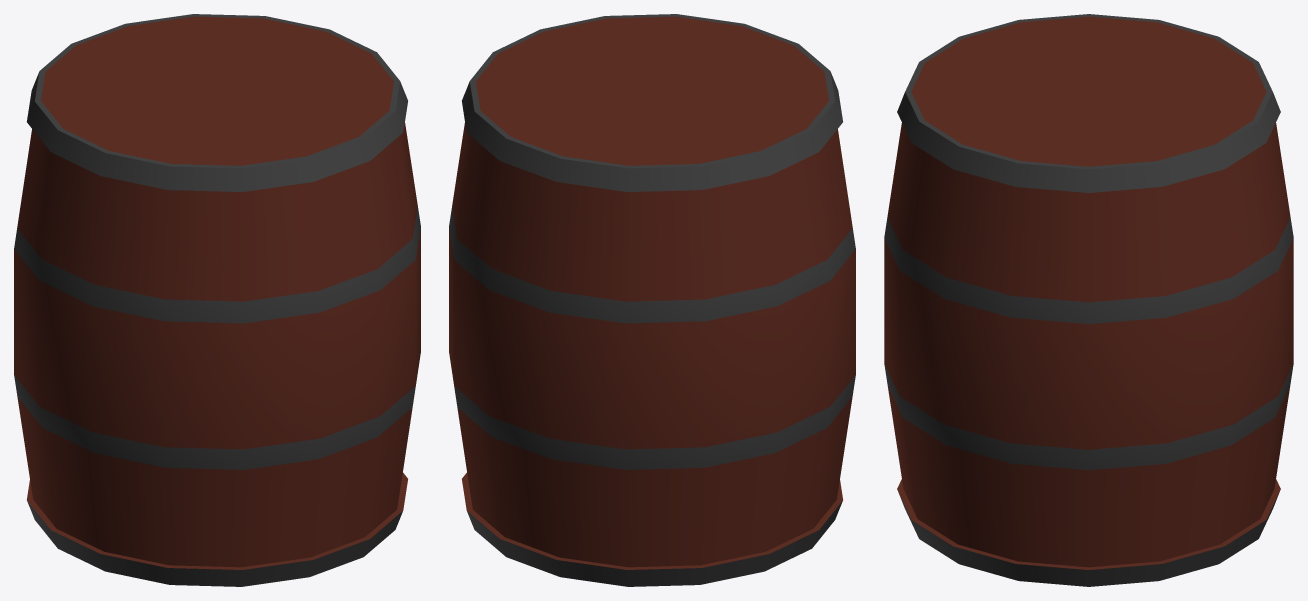
The model's file is barrelmesh.glb.
The picture shows the model from 3 angles, left to right: view 1: azimuth 30°, elevation 25°; view 2: azimuth 150°, elevation 25°; view 3: azimuth 270°, elevation 25°; orthographic projection.
Visible parts, largest first — view 1: barrelmesh; view 2: barrelmesh; view 3: barrelmesh.
Part boxes in pixels (bbox=[...]): barrelmesh: bbox=[14, 14, 420, 586]; barrelmesh: bbox=[449, 14, 855, 586]; barrelmesh: bbox=[884, 14, 1293, 586].
Size of the model in its own units: 1.46 by 1.64 by 1.46.
